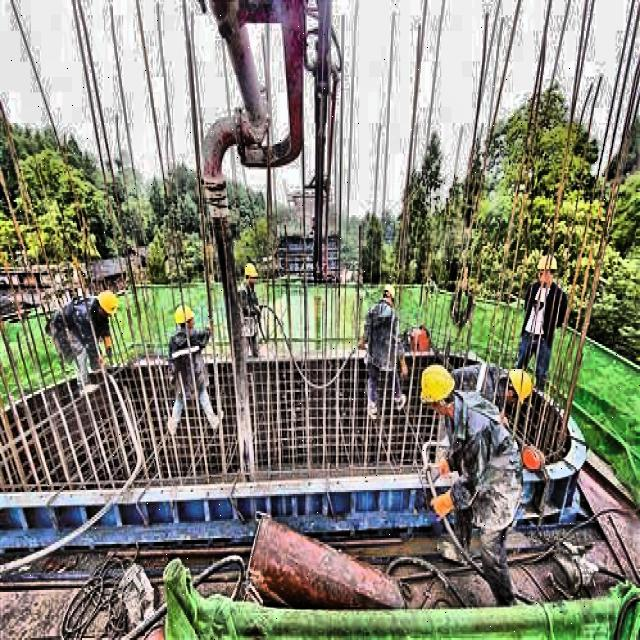helmet: (418, 363, 456, 419), (499, 363, 537, 408), (92, 284, 118, 326), (174, 300, 197, 336), (536, 250, 559, 286), (242, 260, 258, 290), (382, 276, 397, 308)
